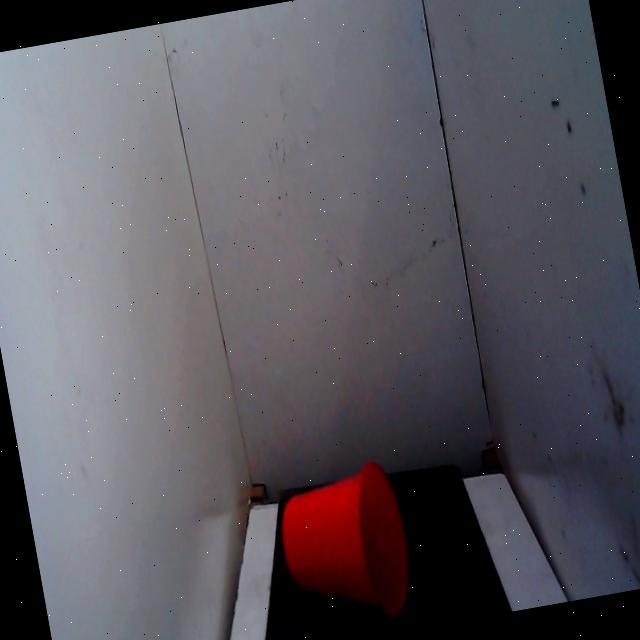plastico: (262, 438, 431, 640)
